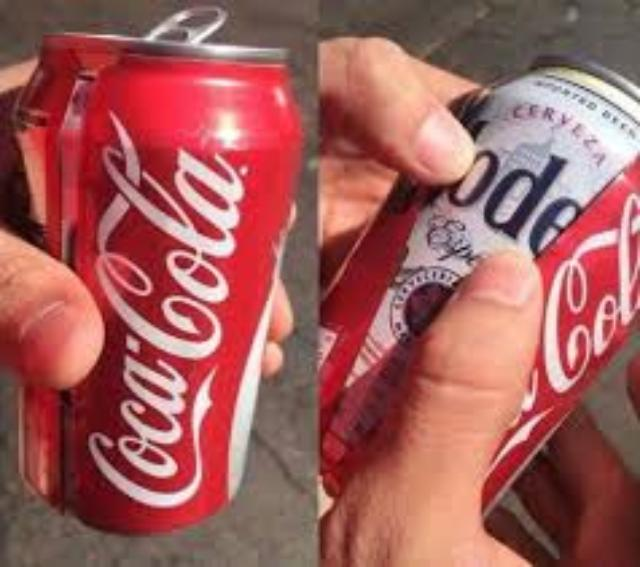metal: (13, 16, 296, 527), (320, 56, 637, 511)
